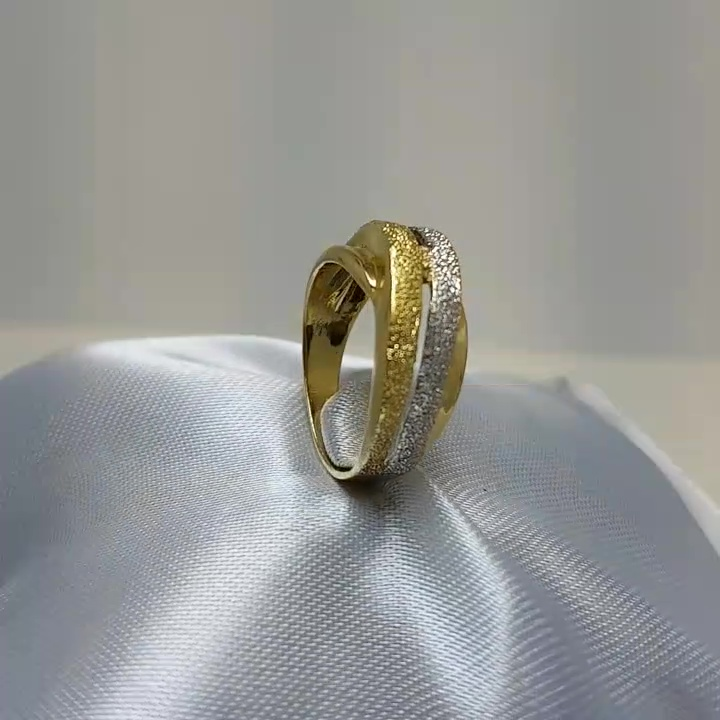Ring 5: (276, 206, 494, 518)
